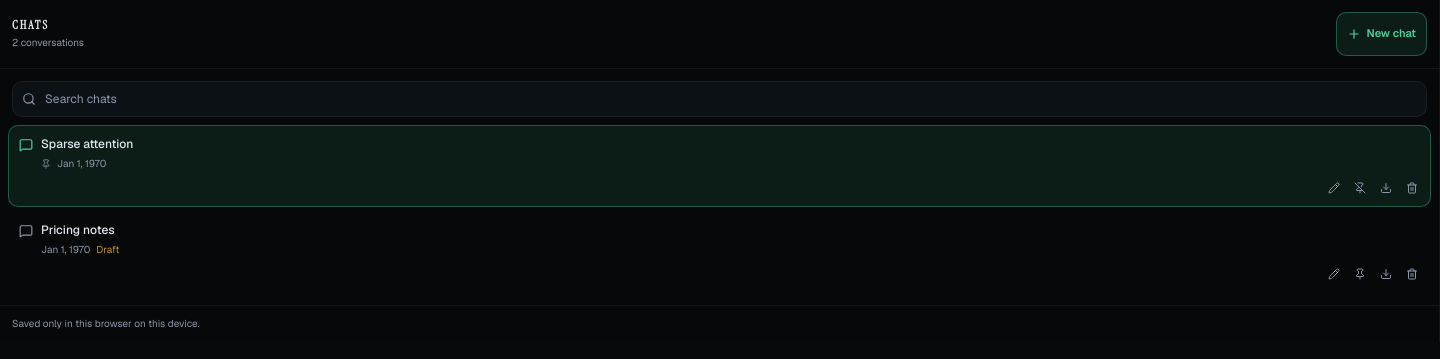
Test: ConversationHistory › explains device-only storage and searches message content
Expected: the text "Saved only in this browser on this device." is shown, top-left (12, 317), bottom-right (200, 330)
Type "inference" into the search field labelled "Search chats" at (720, 99), box top-left (12, 81), bottom-right (1427, 117)
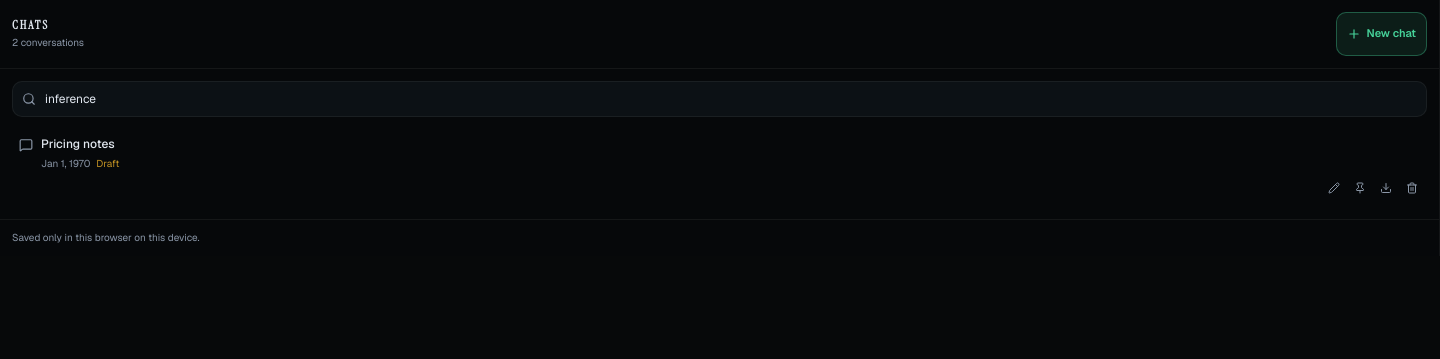
Expected: the text "Pricing notes" is shown, top-left (41, 136), bottom-right (115, 152)
Expected: the button "Sparse attention" is gone
